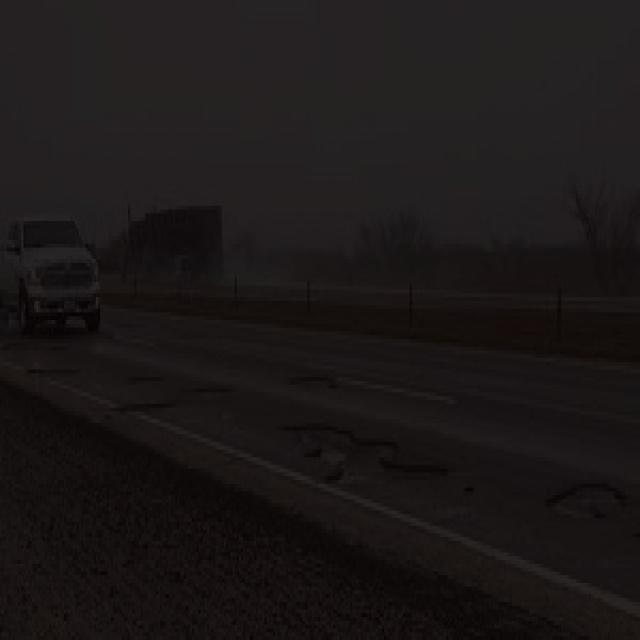Pothole: (280, 416, 450, 498), (540, 474, 635, 536), (22, 361, 81, 384), (114, 395, 177, 415), (297, 370, 339, 396), (184, 379, 233, 398), (126, 371, 160, 388)
